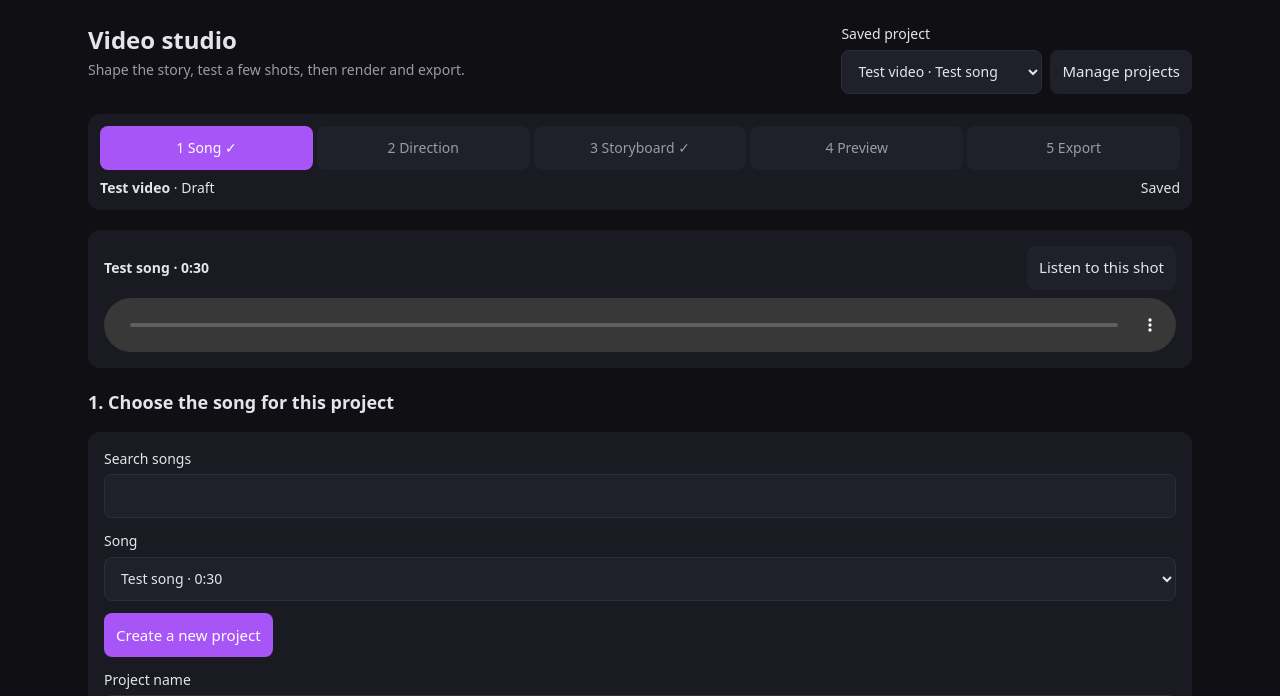
Test case: shows a stable deletion failure and leaves its project available
Click the button "Manage projects" at (1121, 72), box [1050,50,1192,94]
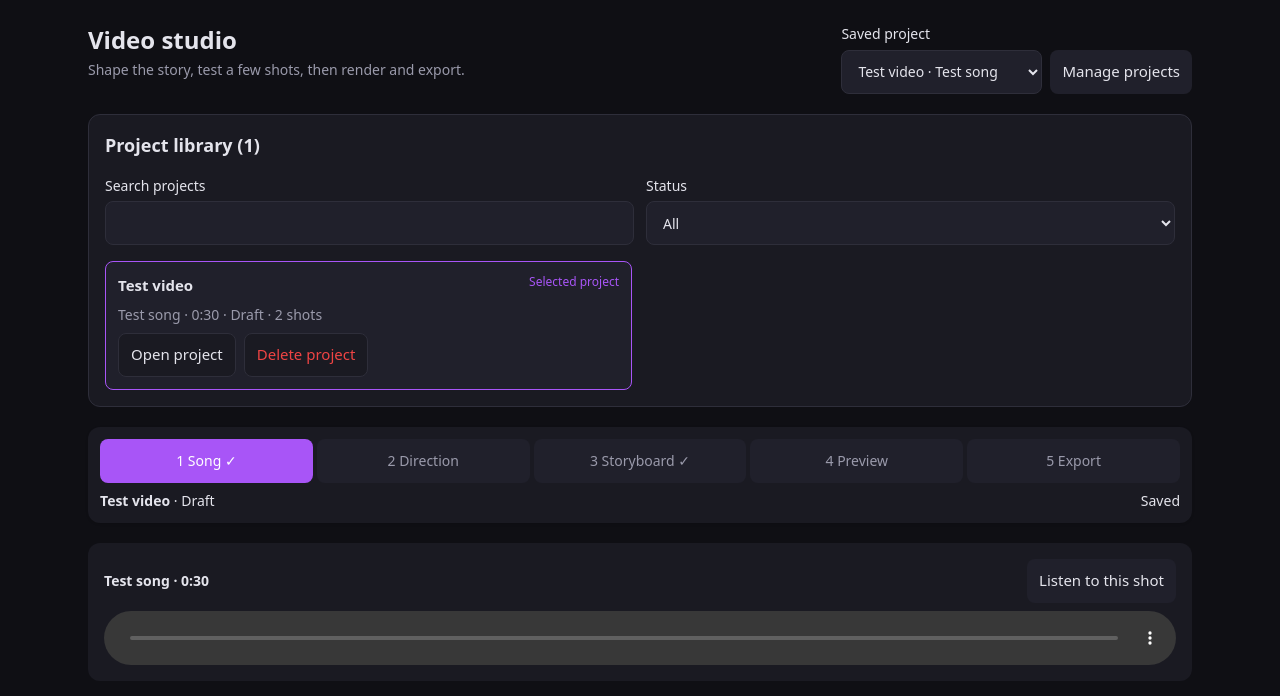
Click the button "Delete project" at (306, 355), box [244,333,368,377]
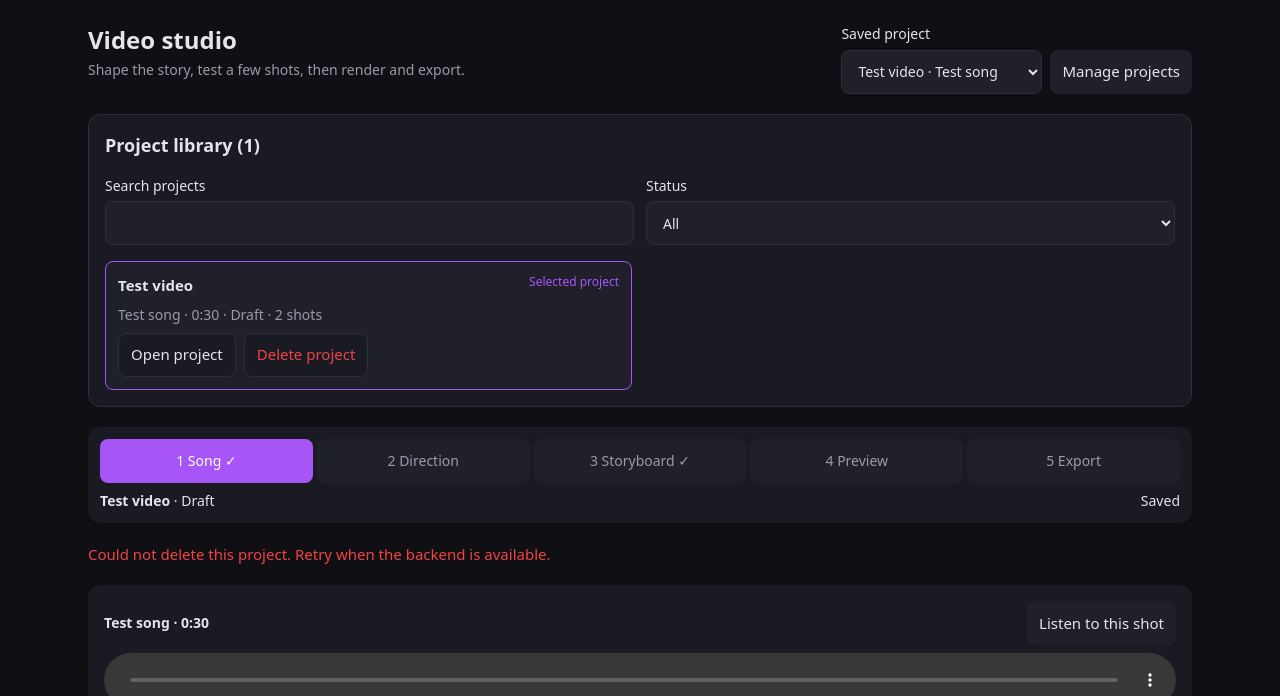
Expected: the message "Could not delete this project. Retry when the backend is available." is shown, [88,544,550,564]
